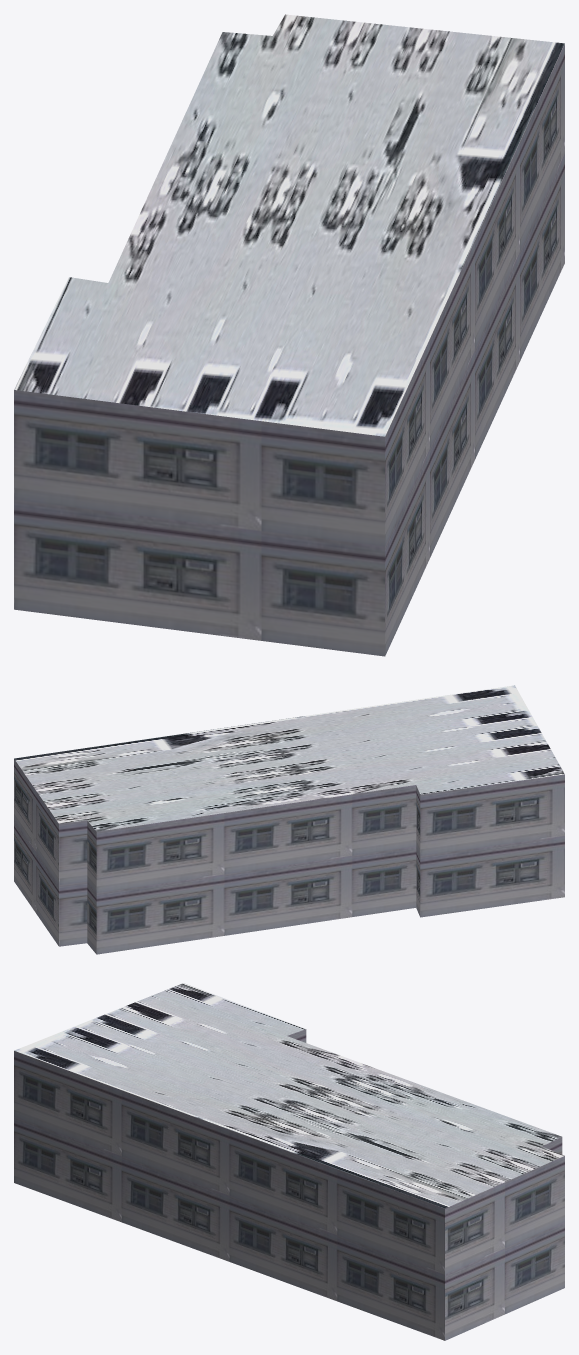
File: ResTex__4731.fbx
The picture shows the model from 3 angles, top to bottom: view 1: azimuth 30°, elevation 25°; view 2: azimuth 150°, elevation 25°; view 3: azimuth 270°, elevation 25°; orthographic projection. The views are drawn at different scales.
Visible parts, largest first — view 1: CityEngineMaterial_4_m, CityEngineMaterial_1_m; view 2: CityEngineMaterial_1_m, CityEngineMaterial_4_m; view 3: CityEngineMaterial_1_m, CityEngineMaterial_4_m.
Part boxes in pixels (x1,y1,x2,y2): CityEngineMaterial_4_m: (14,14,564,436); CityEngineMaterial_1_m: (14,44,564,656); CityEngineMaterial_1_m: (14,759,564,954); CityEngineMaterial_4_m: (14,685,564,831); CityEngineMaterial_1_m: (14,1029,564,1340); CityEngineMaterial_4_m: (14,983,564,1208).
Bounding box in the file's own units: 21.95 × 6 × 22.66.
Materials: 2 (2 with a texture image).
